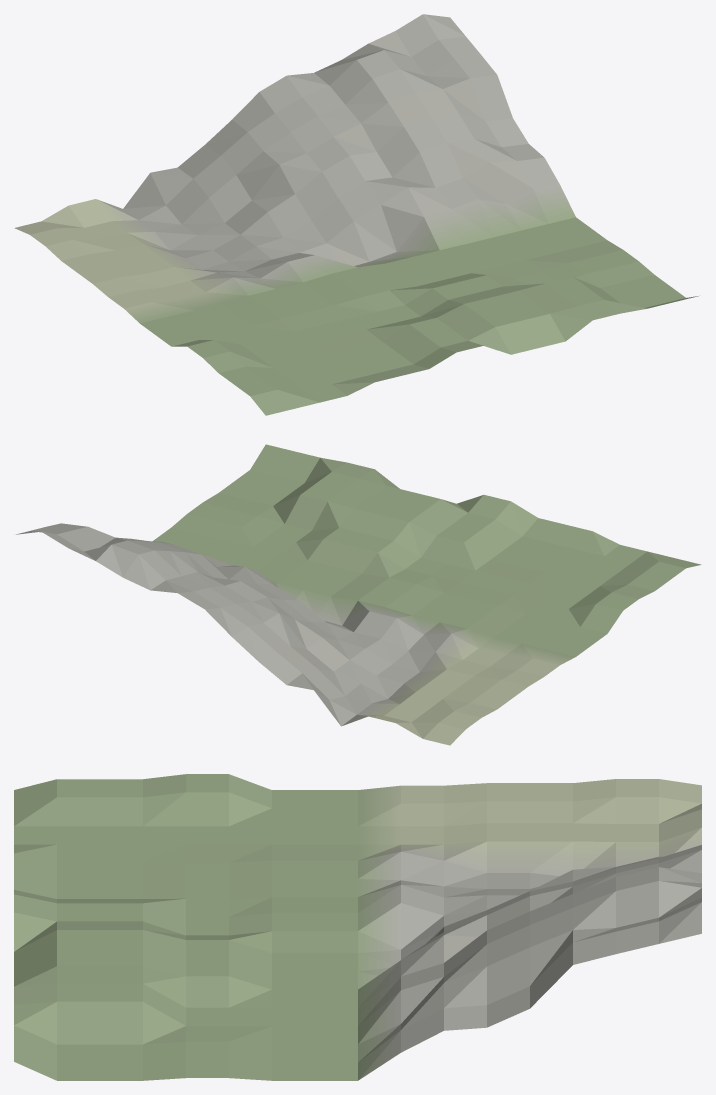
The picture shows the model from 3 angles, top to bottom: view 1: azimuth 30°, elevation 25°; view 2: azimuth 150°, elevation 25°; view 3: azimuth 270°, elevation 25°; orthographic projection. The views are drawn at different scales.
Bounding box in the file's own units: 32 × 9.01 × 32.
